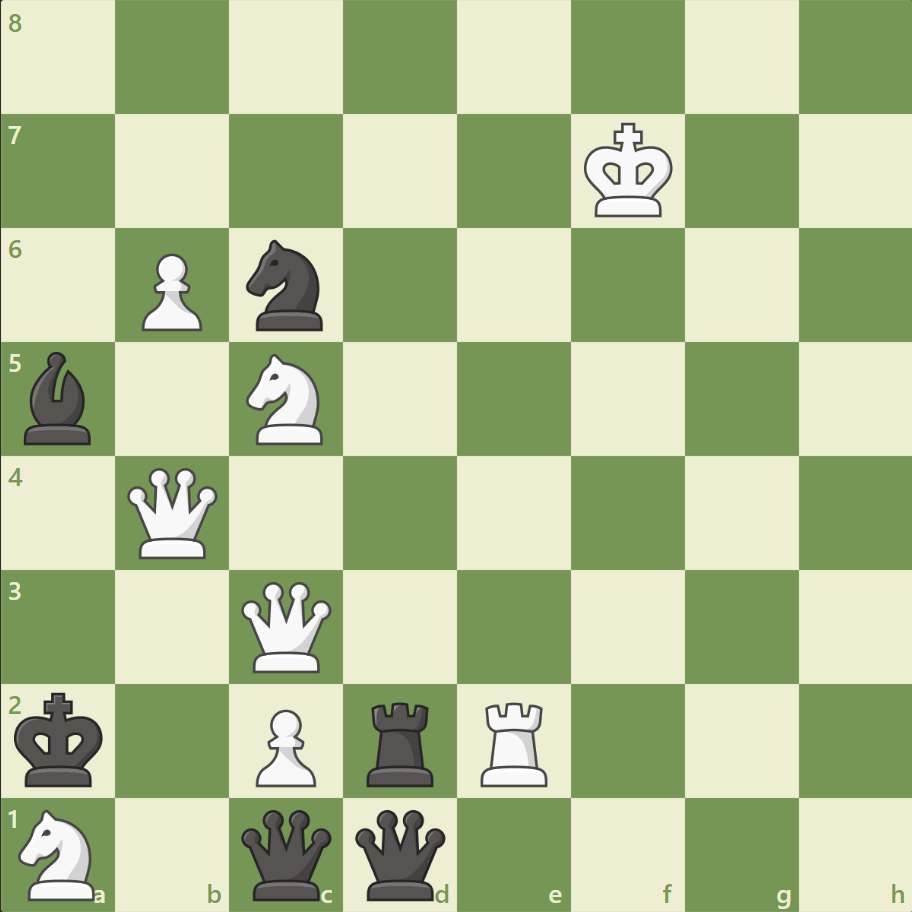K: (579, 117, 679, 225)
N: (238, 348, 335, 450), (11, 802, 108, 904)
P: (133, 246, 208, 337), (247, 700, 322, 791)
Q: (237, 576, 336, 676), (124, 463, 223, 562)
R: (473, 693, 556, 790)
b: (17, 347, 101, 449)
k: (11, 685, 111, 793)
n: (238, 234, 335, 337)
q: (237, 804, 336, 903), (351, 804, 450, 903)
r: (360, 693, 442, 790)
